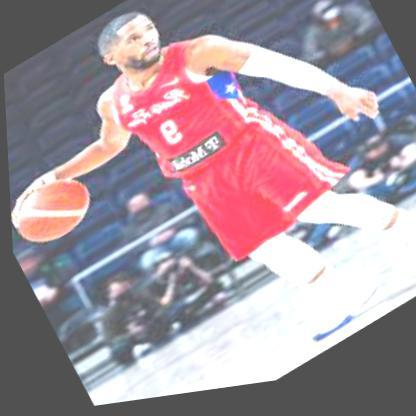basketball: (7, 164, 96, 256)
